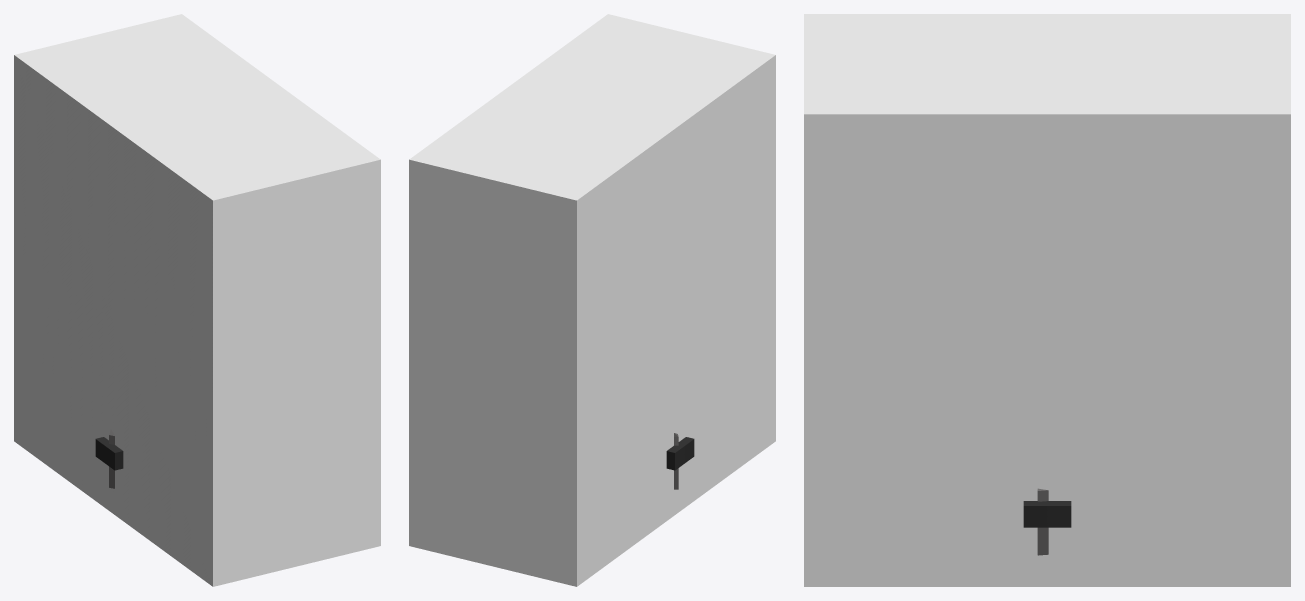
Rendered from mow_bar.obj.
The picture shows the model from 3 angles, left to right: view 1: azimuth 30°, elevation 25°; view 2: azimuth 150°, elevation 25°; view 3: azimuth 270°, elevation 25°; orthographic projection. The views are drawn at different scales.
Visible parts, largest first — view 1: Cube.029_Cube.044; view 2: Cube.029_Cube.044; view 3: Cube.029_Cube.044.
Boxes of the visible parts, bbox=[...] form: Cube.029_Cube.044: bbox=[14, 14, 380, 586]; Cube.029_Cube.044: bbox=[409, 14, 775, 586]; Cube.029_Cube.044: bbox=[804, 14, 1290, 586].
Bounding box in the file's own units: 0.6875 × 1.38 × 1.28.
1 material, 1 textured.
